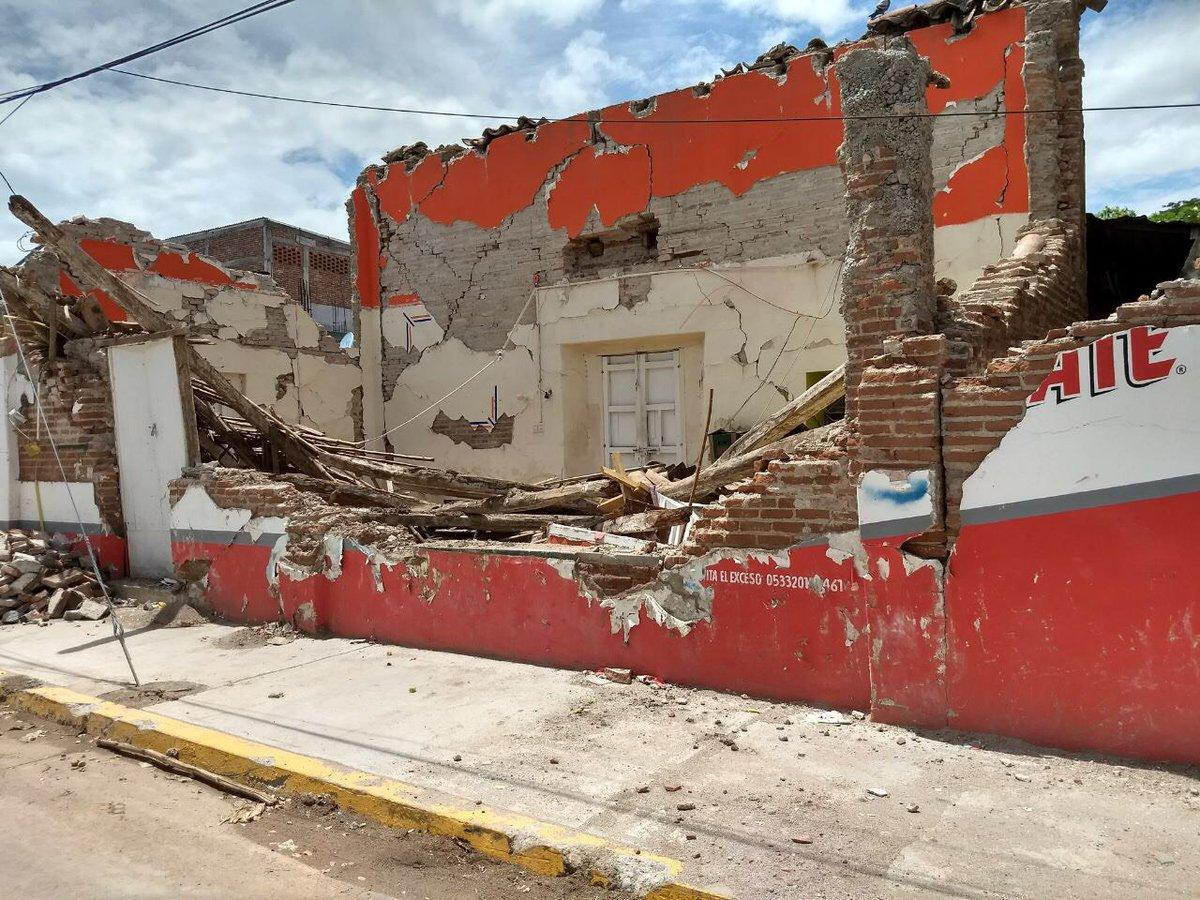destroyed: (19, 98, 1200, 719)
